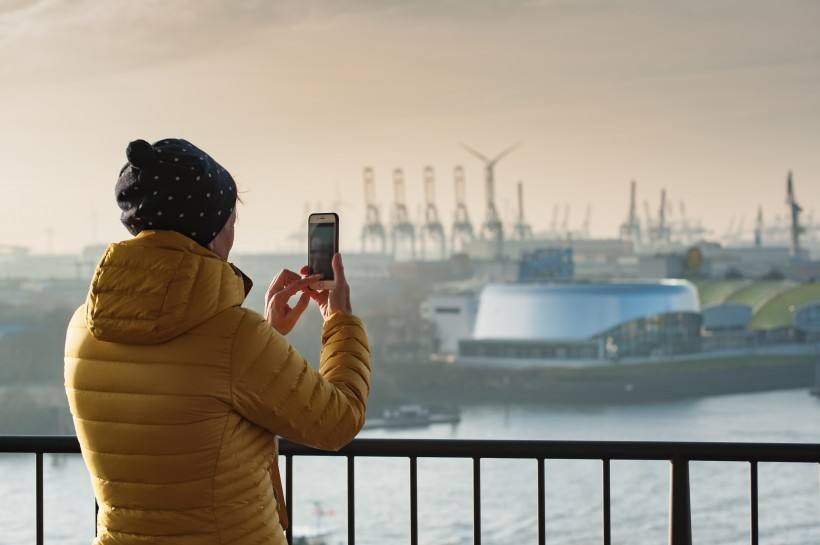taking photos: (263, 207, 361, 328)
